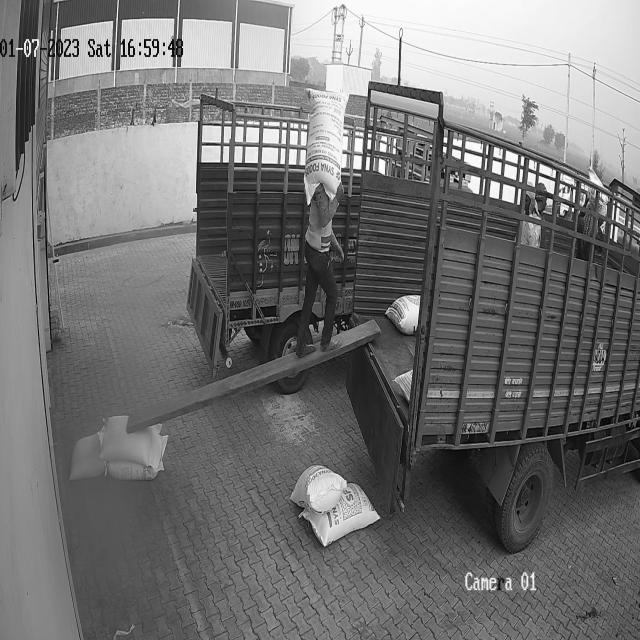sack: (304, 87, 349, 205), (298, 482, 380, 546), (99, 414, 162, 466), (289, 463, 347, 512), (105, 434, 167, 479), (68, 434, 105, 479)
